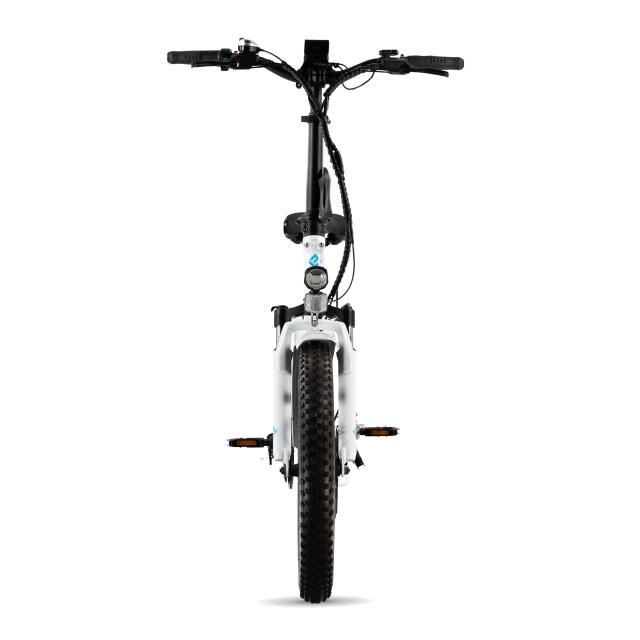folding-bike: (158, 30, 471, 614)
